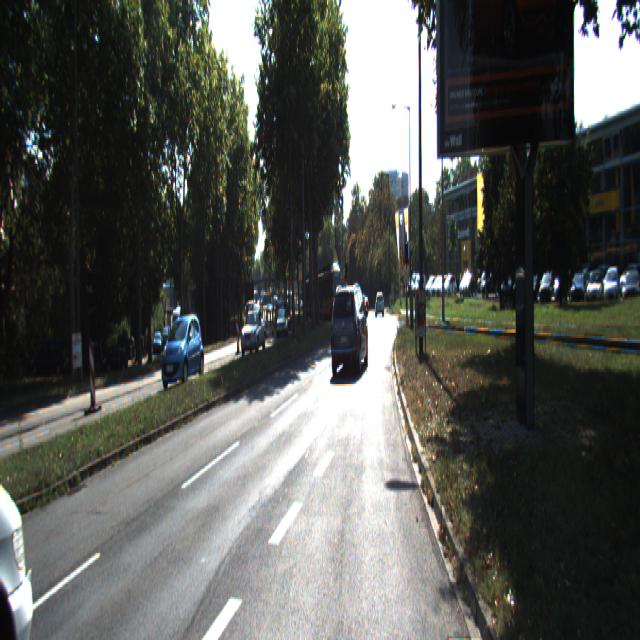Car: (330, 281, 369, 378), (161, 314, 204, 389), (307, 267, 342, 322), (240, 310, 267, 356)
